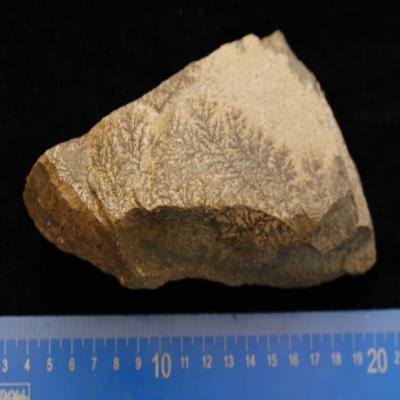mineralogy: (22, 31, 378, 292)
